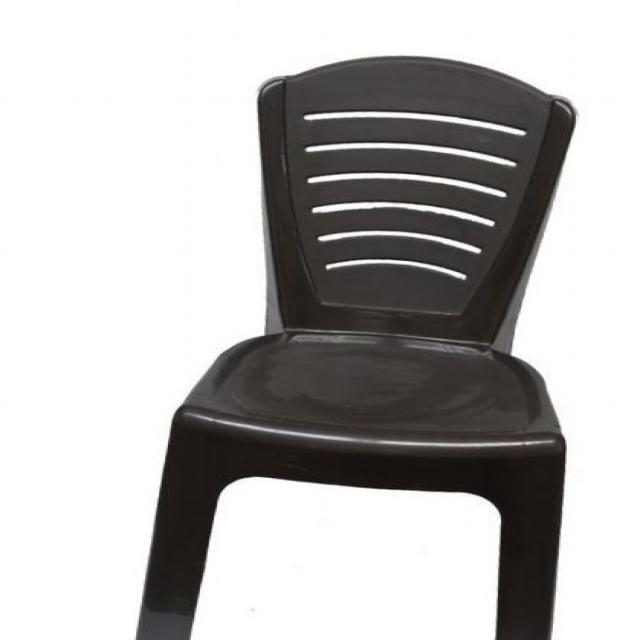Chair: (128, 54, 579, 640)
